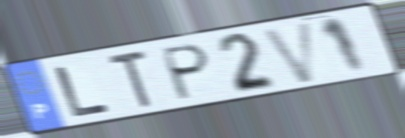1: (318, 14, 370, 76)
2: (216, 31, 279, 97)
L: (51, 64, 114, 120)
P: (160, 42, 213, 103)
T: (105, 48, 156, 112)
V: (258, 18, 318, 86)
